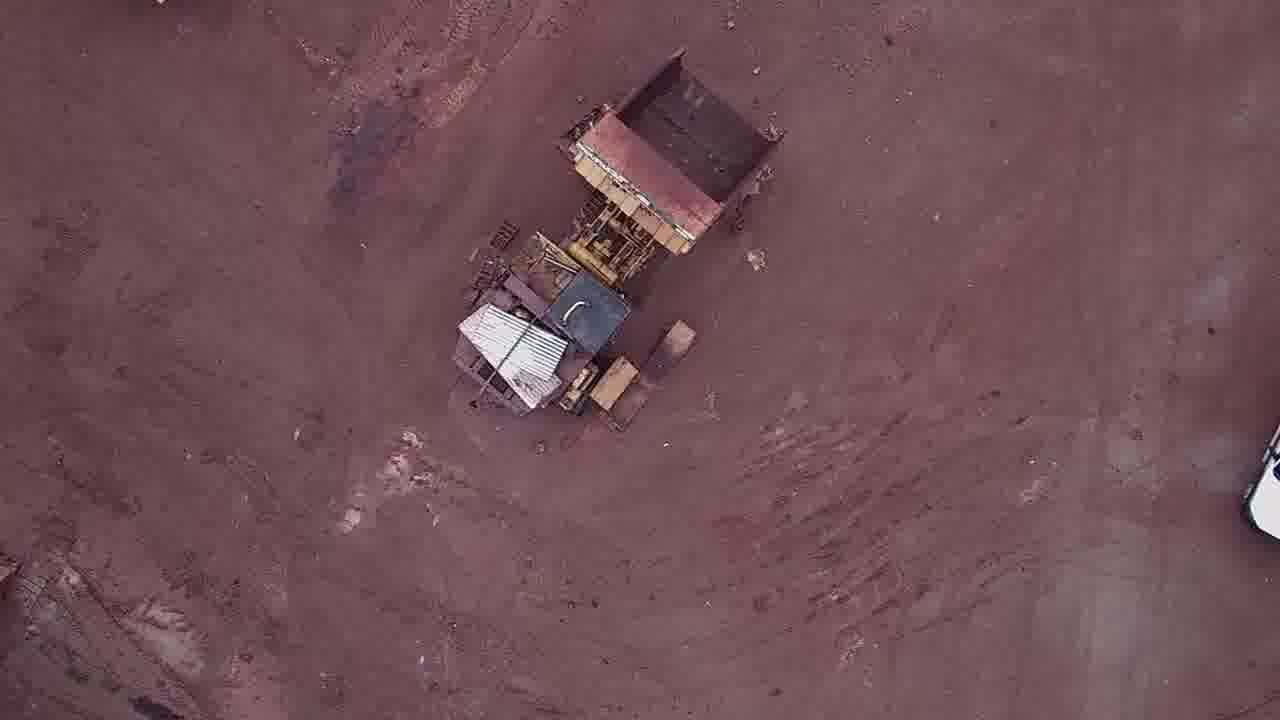heavy_motor_vehicle: (449, 47, 783, 439)
